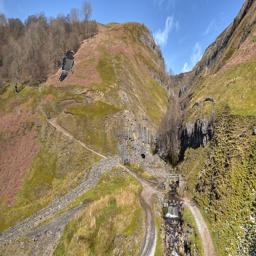Swallow: (58, 50, 74, 82)
